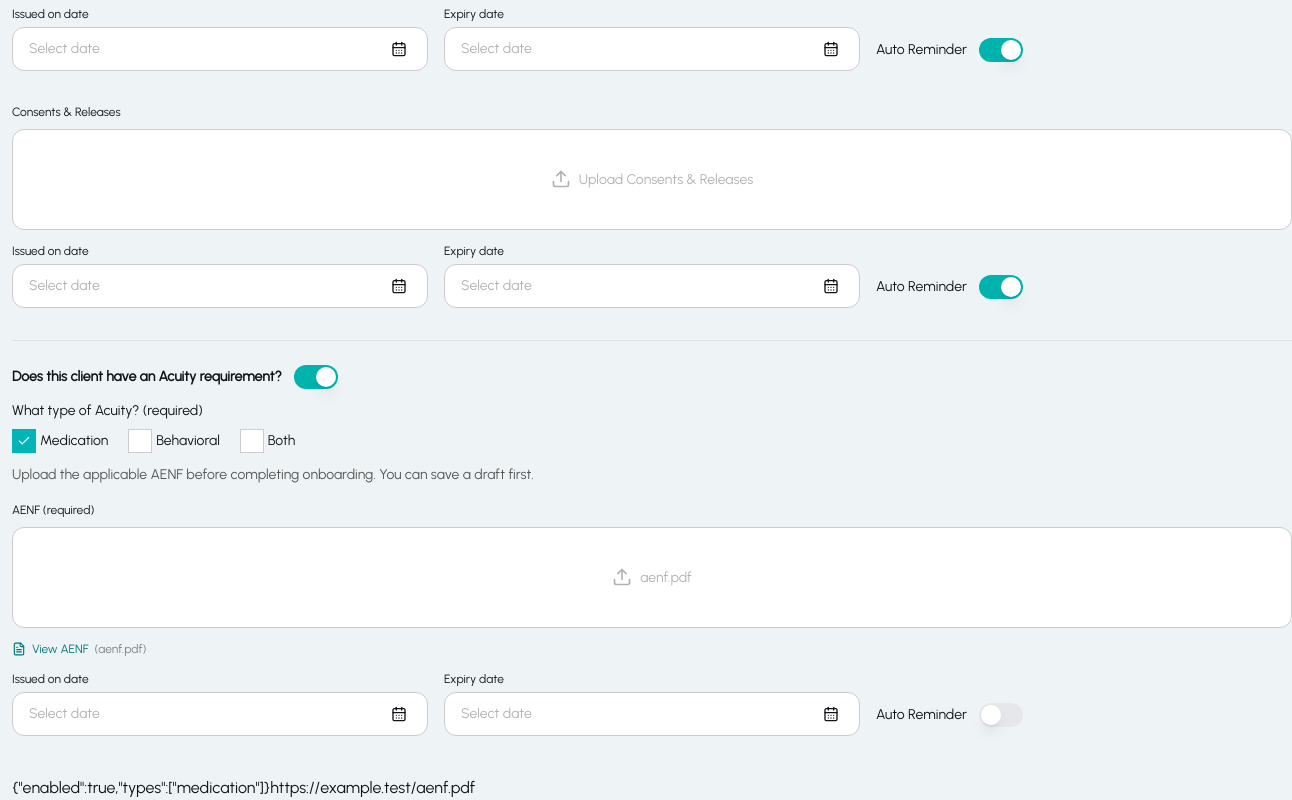
toggles AENF upload visibility without removing saved ddd evidence
The image size is (1292, 800).
Later steps or results of the test are not shown.
(page scrolled)
Expected: the 3rd switch named "Does this client have an Acuity requirement?" is checked, [294, 365, 338, 389]
Expected: the checkbox labelled "Medication" is checked, [12, 429, 108, 453]
Click the checkbox labelled "Both".
click(268, 441)  # box [240, 429, 295, 453]
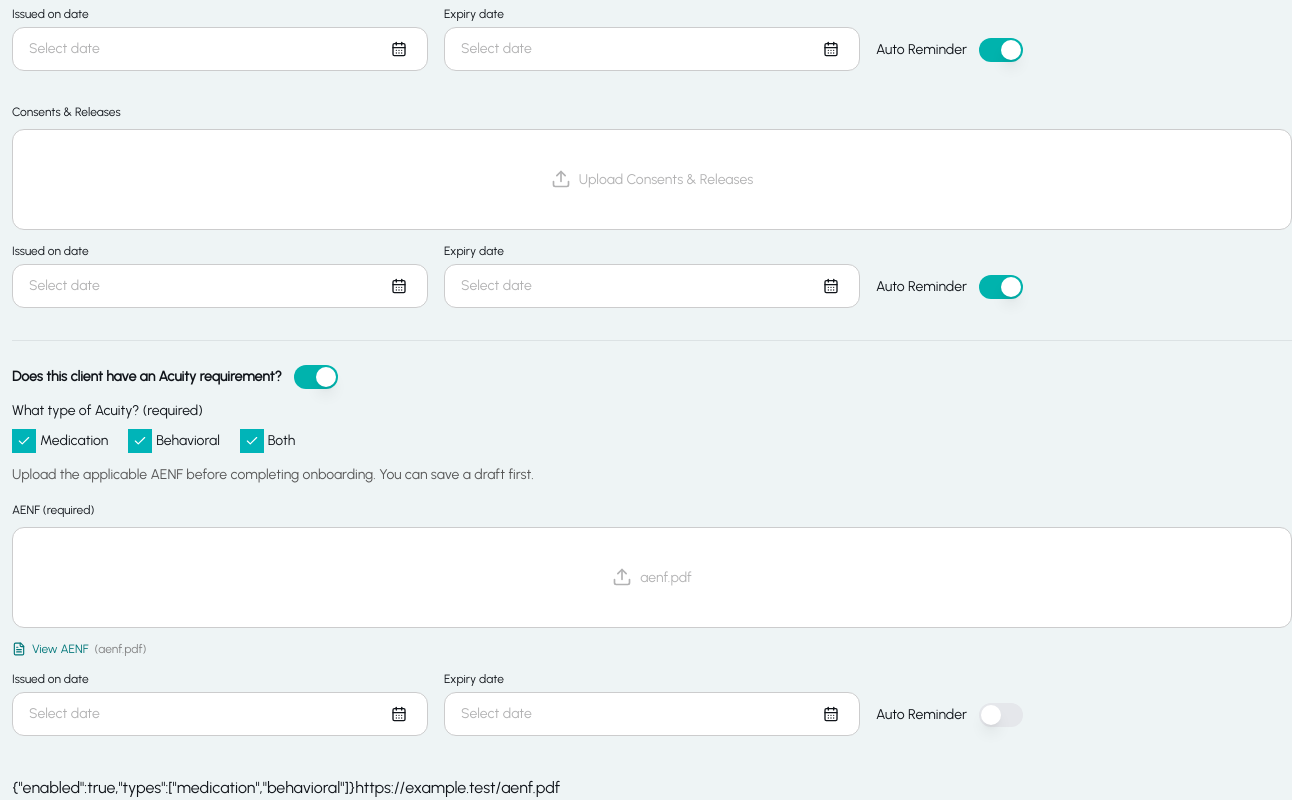
Expected: the checkbox labelled "Both" is checked, [240, 429, 295, 453]
Expected: the checkbox labelled "Behavioral" is checked, [128, 429, 220, 453]
Click the checkbox labelled "Medication".
click(60, 441)  # box [12, 429, 108, 453]
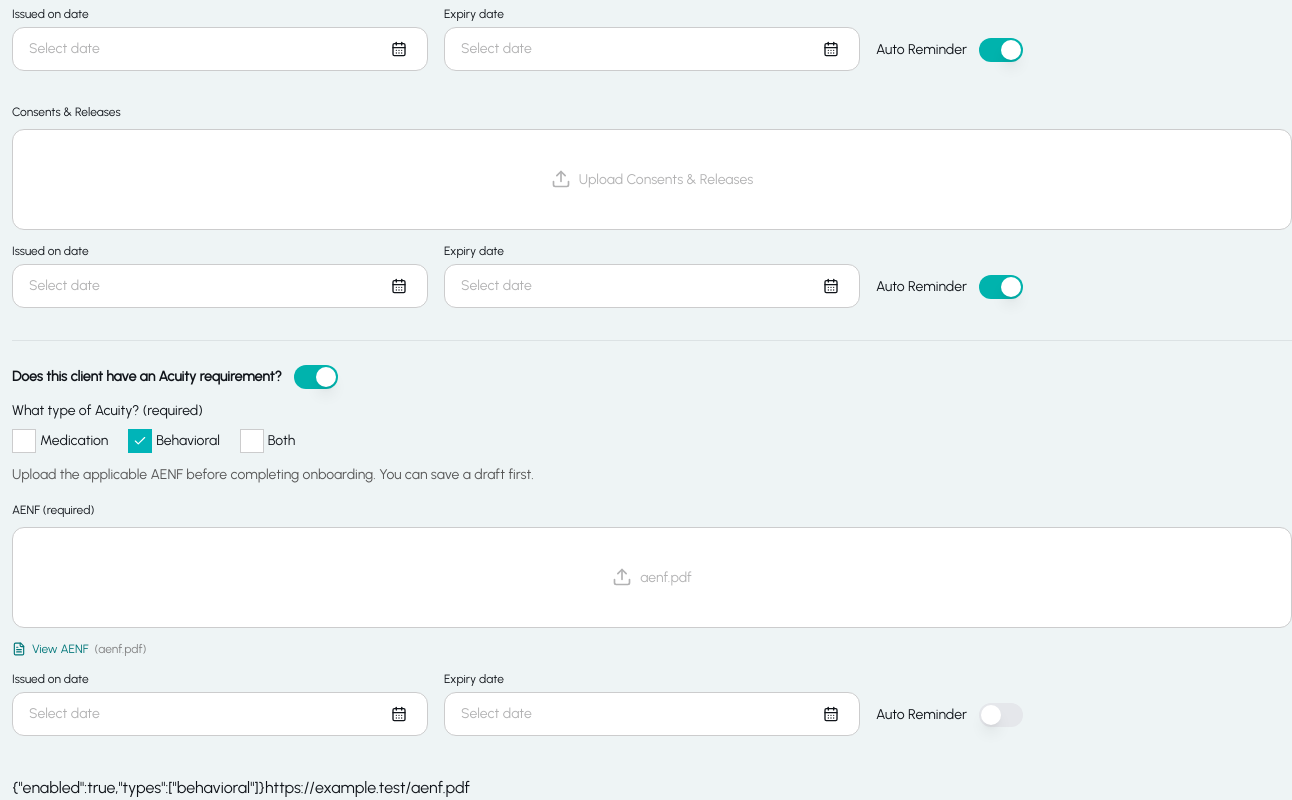
Expected: the checkbox labelled "Both" is not checked, [240, 429, 295, 453]
Expected: the checkbox labelled "Behavioral" is checked, [128, 429, 220, 453]
Click the checkbox labelled "Medication".
click(60, 441)  # box [12, 429, 108, 453]
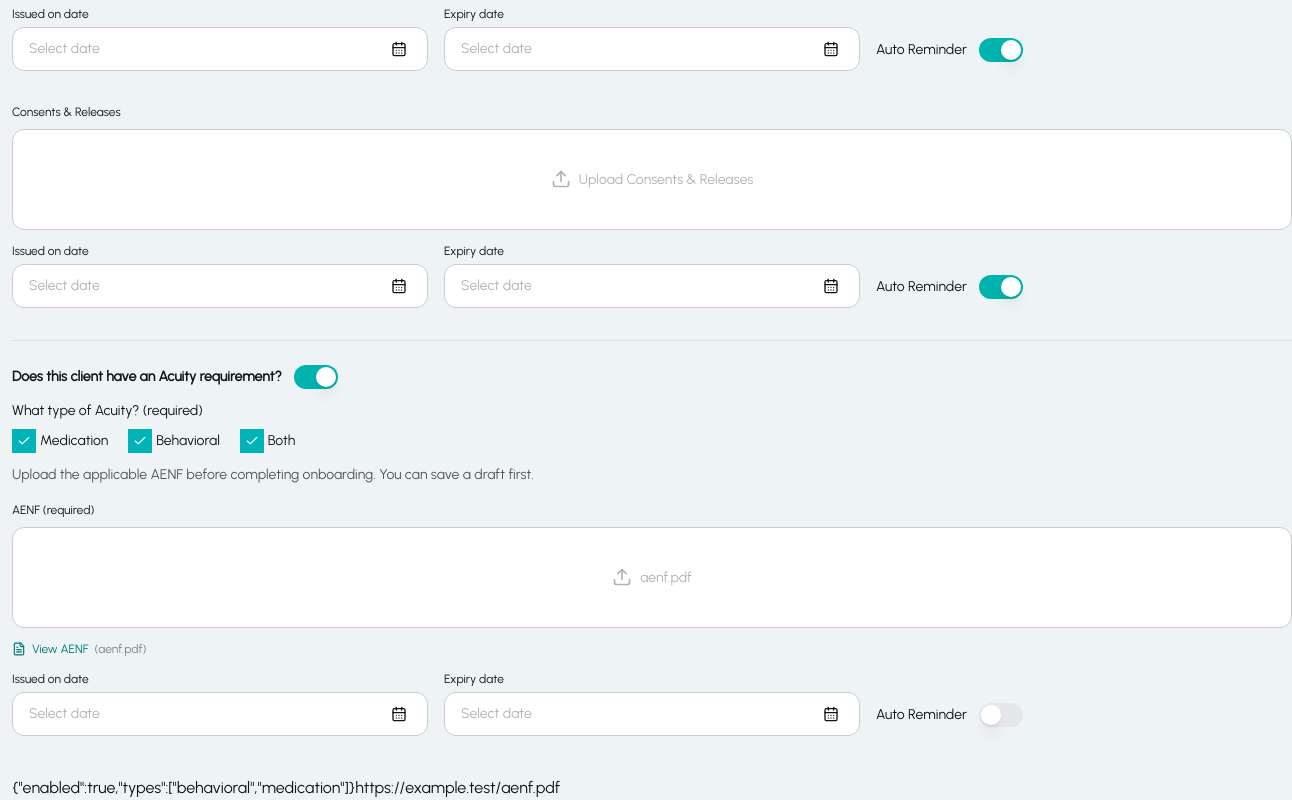
Expected: the checkbox labelled "Both" is checked
Click the checkbox labelled "Both".
click(268, 441)  # box [240, 429, 295, 453]
(page scrolled)
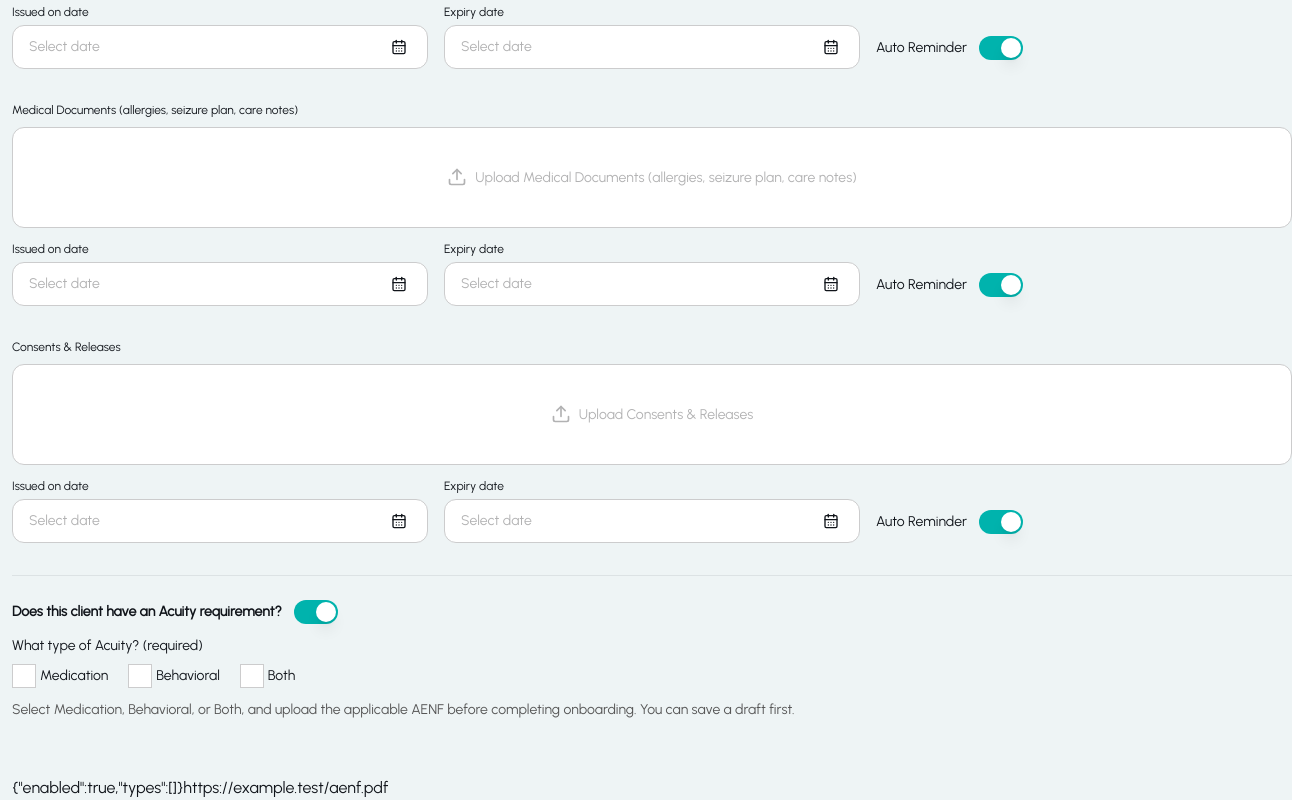
Expected: the checkbox labelled "Medication" is not checked, [12, 664, 108, 688]
Expected: the checkbox labelled "Behavioral" is not checked
Expected: the text "Select Medication, Behavioral, or Both, and upload" is shown, [12, 701, 637, 718]
Click the checkbox labelled "Behavioral".
click(174, 676)  # box [128, 664, 220, 688]
(page scrolled)
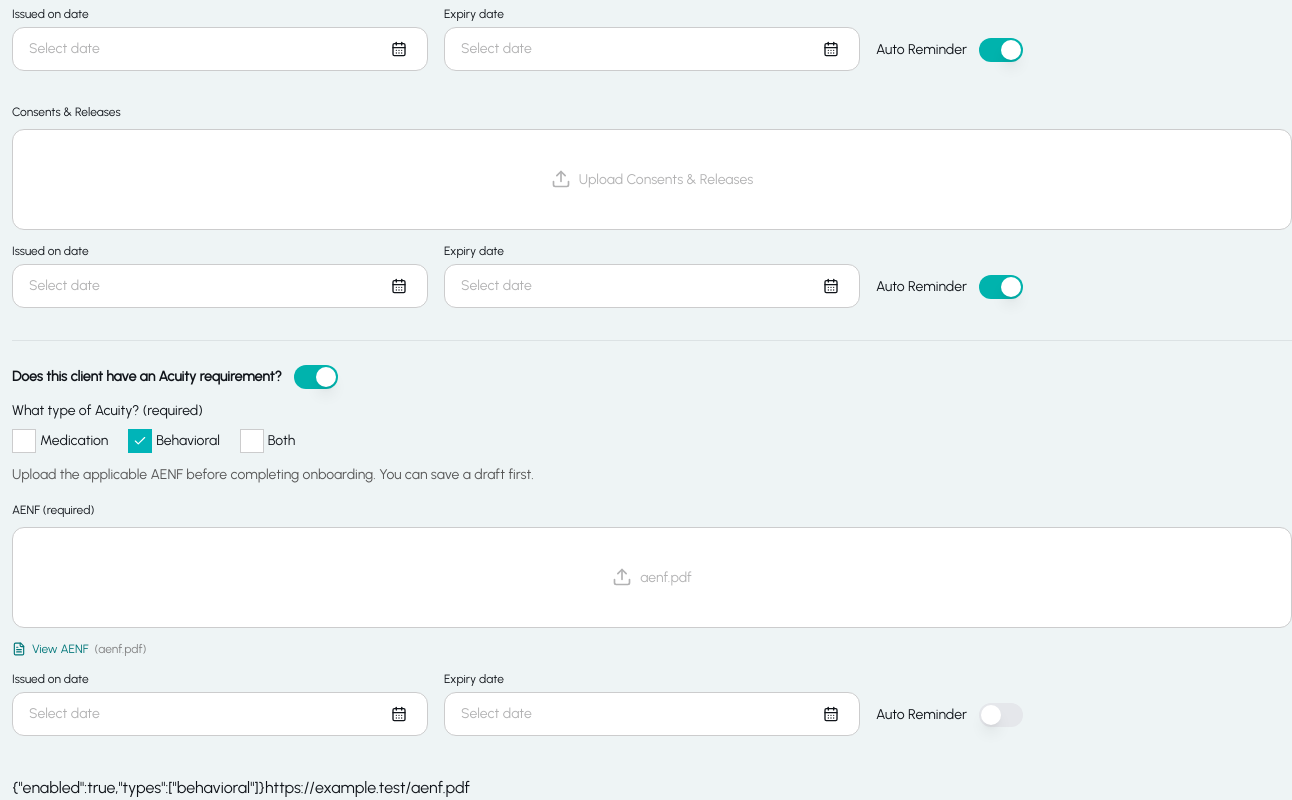
Click the 3rd switch named "Does this client have an Acuity requirement?".
click(316, 377)  # box [294, 365, 338, 389]
(page scrolled)
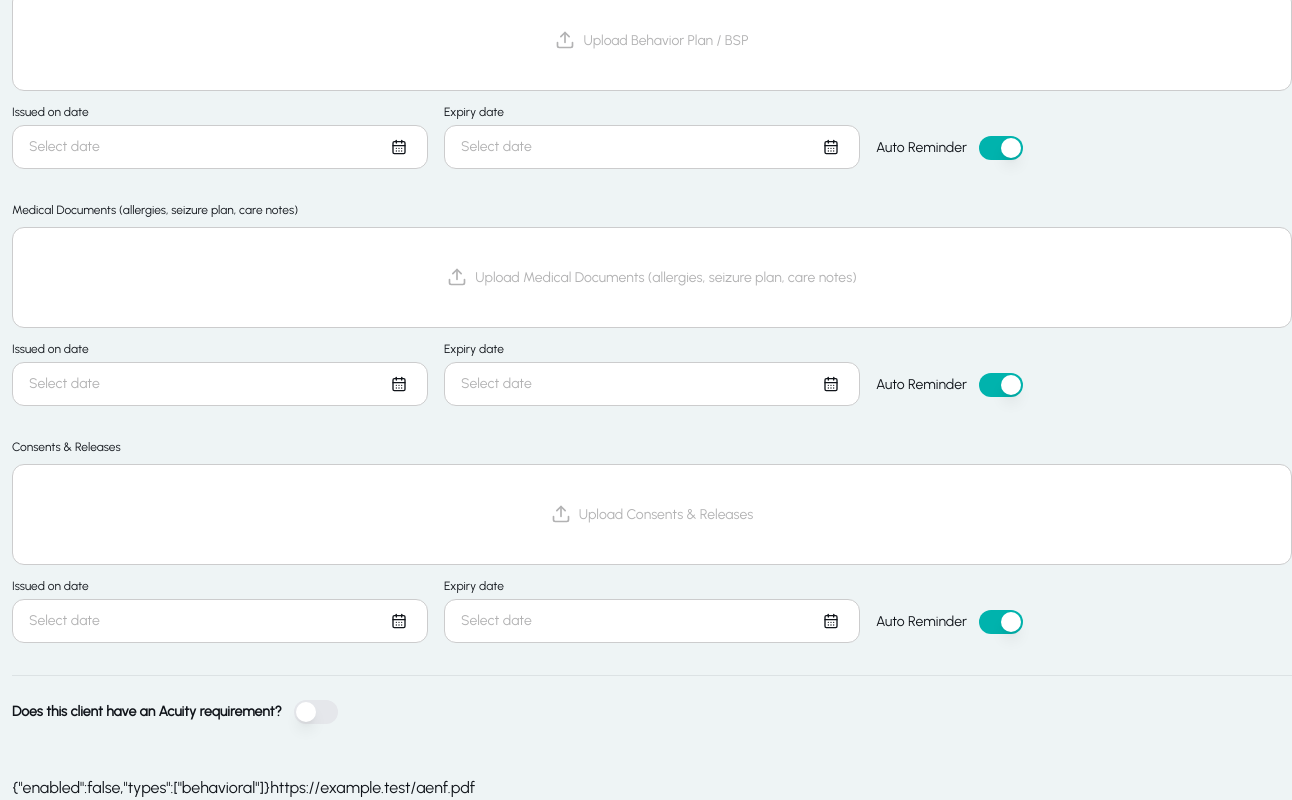
Expected: the text with test id "evidence" reads "https://example.test/aenf.pdf", [270, 778, 475, 797]
Expected: the text "Both" is gone
Expected: the text with test id "acuity" reads "{\"enabled\":false,\"types\":[\"behavioral\"]}", [12, 778, 270, 797]
